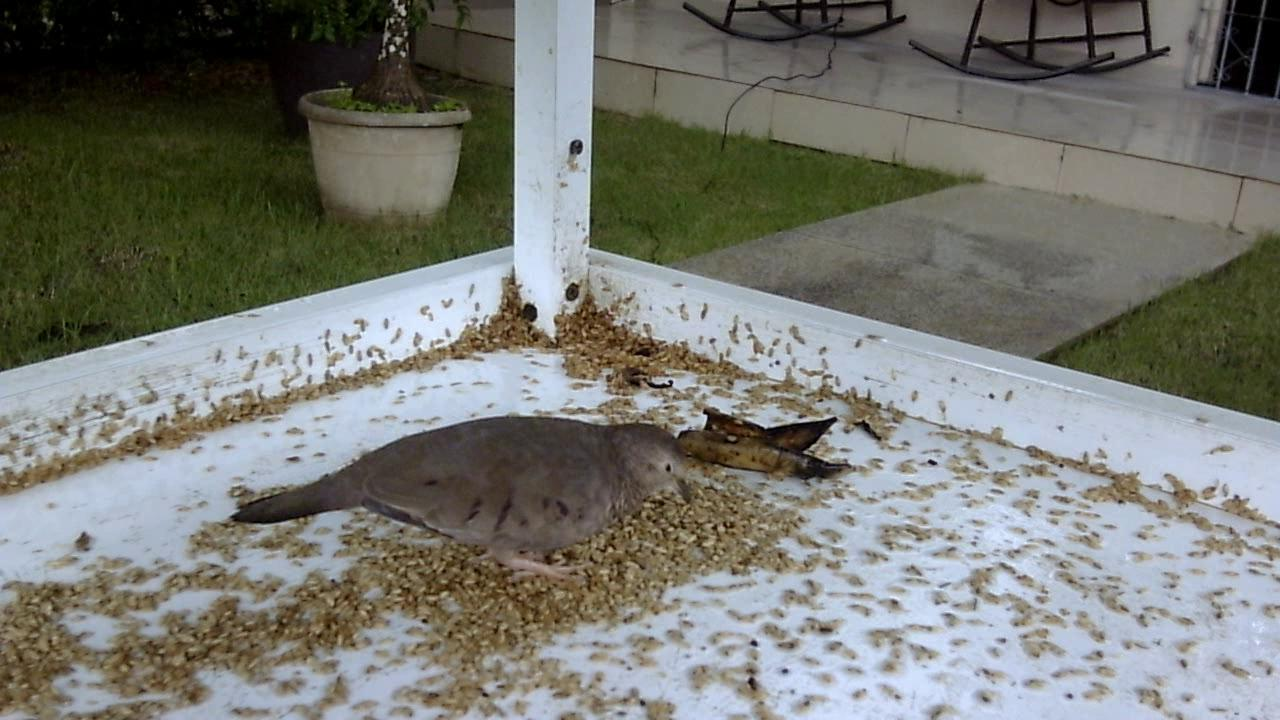rolinha: (217, 406, 710, 598)
